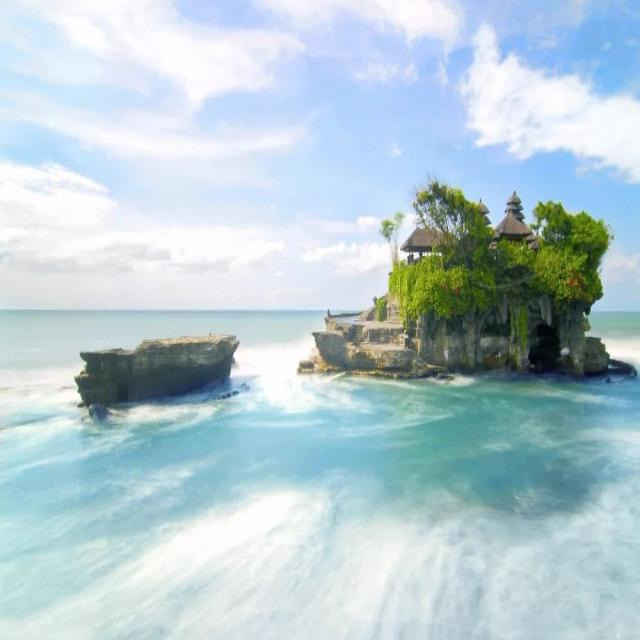reef: (64, 303, 270, 431)
